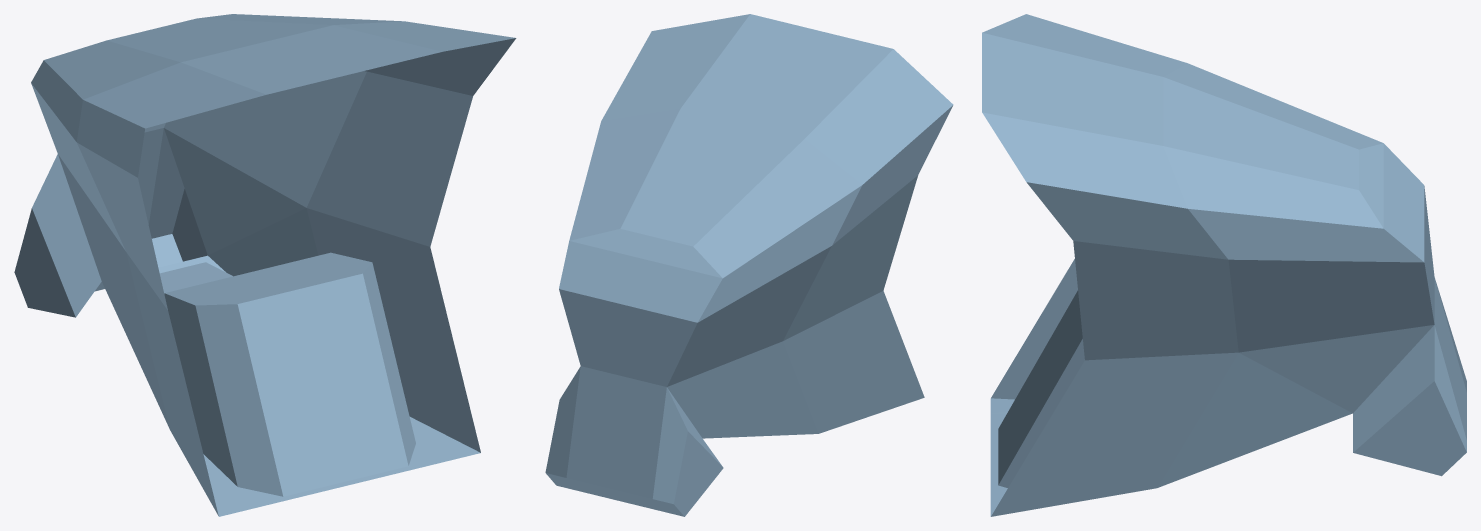
Rendered from stern.FBX.
3 renders of one model, left to right at view 1: azimuth 30°, elevation 25°; view 2: azimuth 150°, elevation 25°; view 3: azimuth 270°, elevation 25°, orthographic. The views are drawn at different scales.
Visible parts, largest first — view 1: Box18; view 2: Box18; view 3: Box18.
Part boxes in pixels (left/top/right/bottom): Box18: left=14, top=14, right=516, bottom=516; Box18: left=545, top=14, right=953, bottom=516; Box18: left=982, top=14, right=1466, bottom=516.
Bounding box in the file's own units: 0.04 × 0.0488 × 0.0427.
